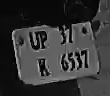3: (57, 24, 68, 47), (74, 50, 85, 72)
5: (66, 50, 78, 72)
6: (58, 52, 70, 74)
7: (65, 24, 79, 47), (80, 49, 90, 72)
K: (37, 56, 52, 79)
P: (38, 29, 48, 50)
U: (28, 31, 41, 52)
